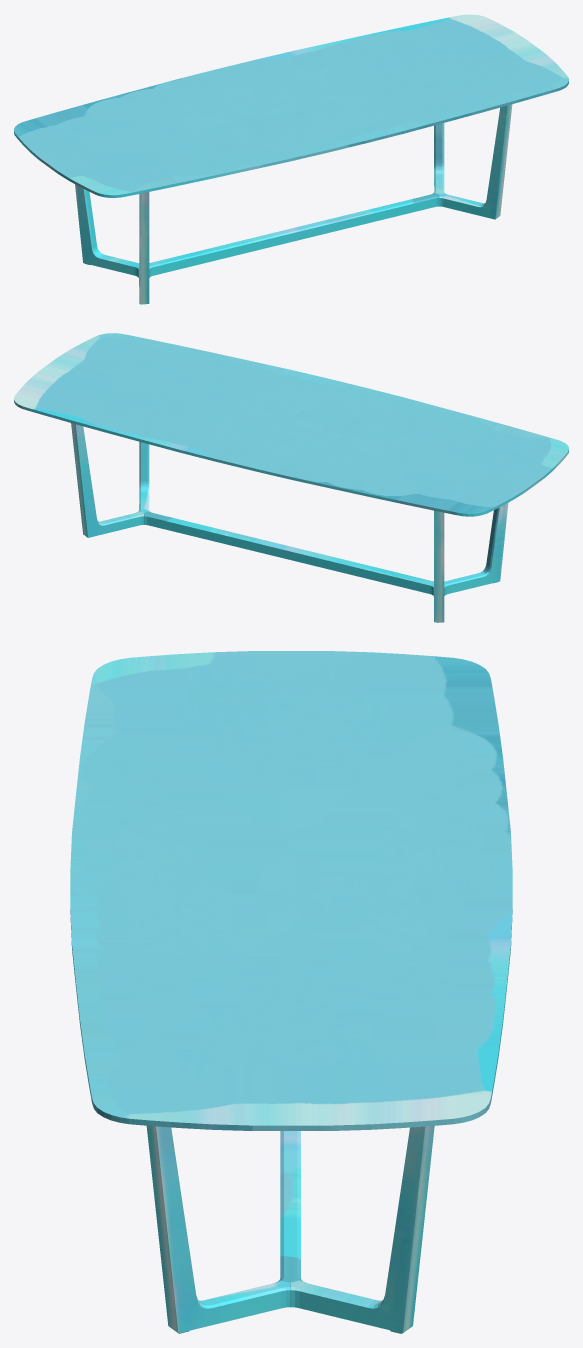
File: edited_mesh.glb
3 views of the same model, one above another, from view 1: azimuth 30°, elevation 25°; view 2: azimuth 150°, elevation 25°; view 3: azimuth 270°, elevation 25° (orthographic). The views are drawn at different scales.
Visible parts, largest first — view 1: normalized_model.obj; view 2: normalized_model.obj; view 3: normalized_model.obj.
Boxes of the visible parts, x1=… form: normalized_model.obj: x1=14, y1=14, x2=568, y2=304; normalized_model.obj: x1=14, y1=333, x2=568, y2=622; normalized_model.obj: x1=70, y1=651, x2=512, y2=1333.
Bounding box in the file's own units: 2 × 0.5321 × 0.7873.
Materials: 1 (1 with a texture image).
